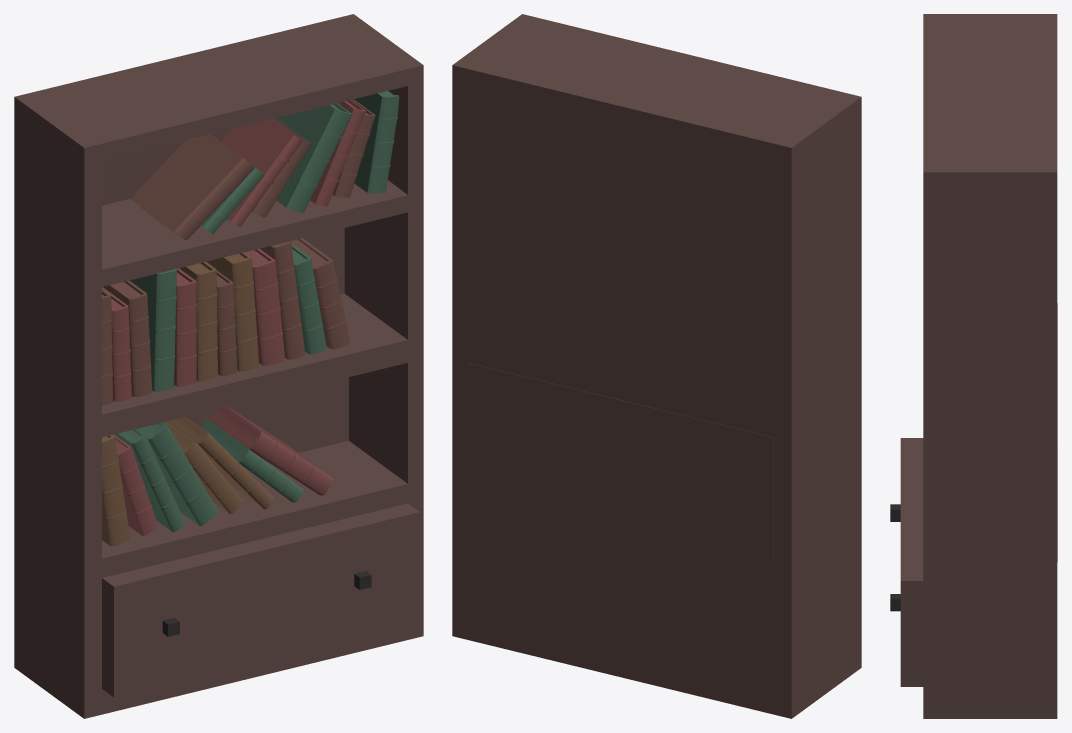
Rendered from Sem_KastMetBoeken_Color.fbx.
The picture shows the model from 3 angles, left to right: view 1: azimuth 30°, elevation 25°; view 2: azimuth 150°, elevation 25°; view 3: azimuth 270°, elevation 25°; orthographic projection. The views are drawn at different scales.
Parts seen in each view (by area): view 1: Kast_2; view 2: Kast_2; view 3: Kast_2.
Boxes of the visible parts, x1,y1,x2,y2 form: Kast_2: [14, 14, 423, 718]; Kast_2: [452, 14, 861, 718]; Kast_2: [890, 14, 1057, 718].
Bounding box in the file's own units: 5.11 × 8.22 × 2.28.
